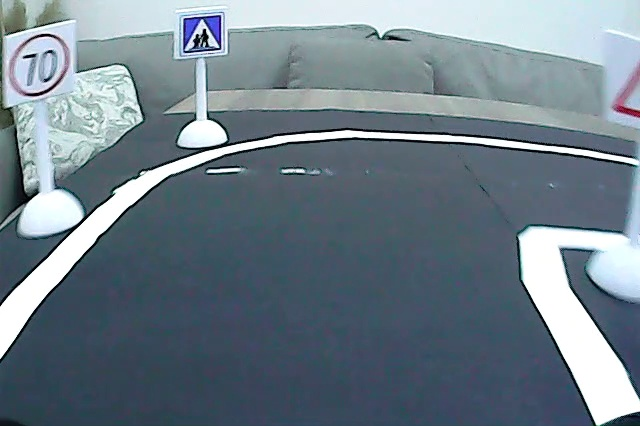school crossing: (181, 13, 225, 55)
speed limit 70: (7, 32, 74, 98)
